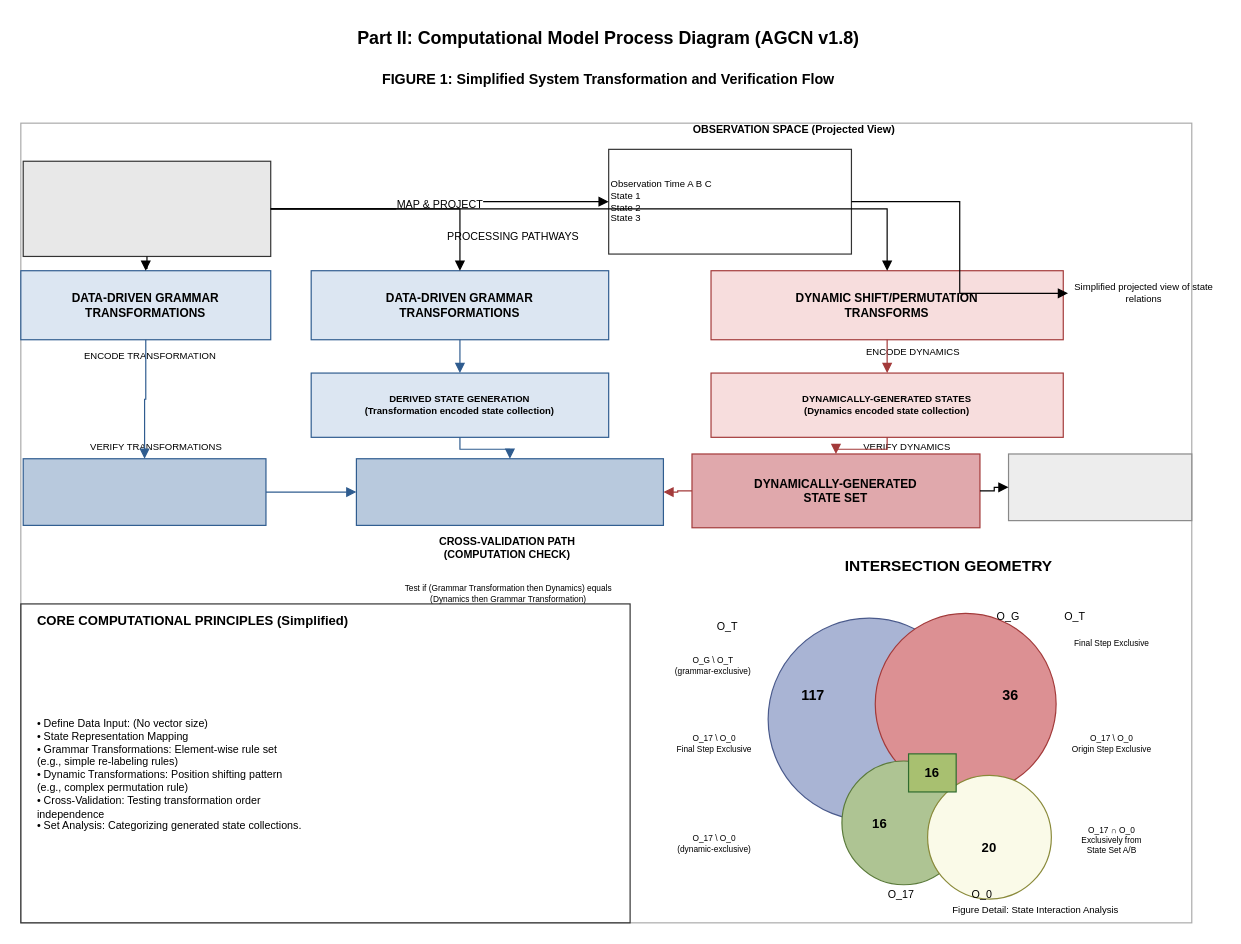
This 1241x944 diagram has some shape labels left out. The centre of each missing label's shape, as x and y in pixels:
EMPIRICAL STATUS: (Pending Verification): (x=1099, y=487)
GRAMMAR INTERSECTION SET: (x=509, y=491)
INPUT: SOURCE DATA SUBSTRATE (e.g., initial array): (x=146, y=208)
PREDICTED INTERSECTION: (x=144, y=491)
